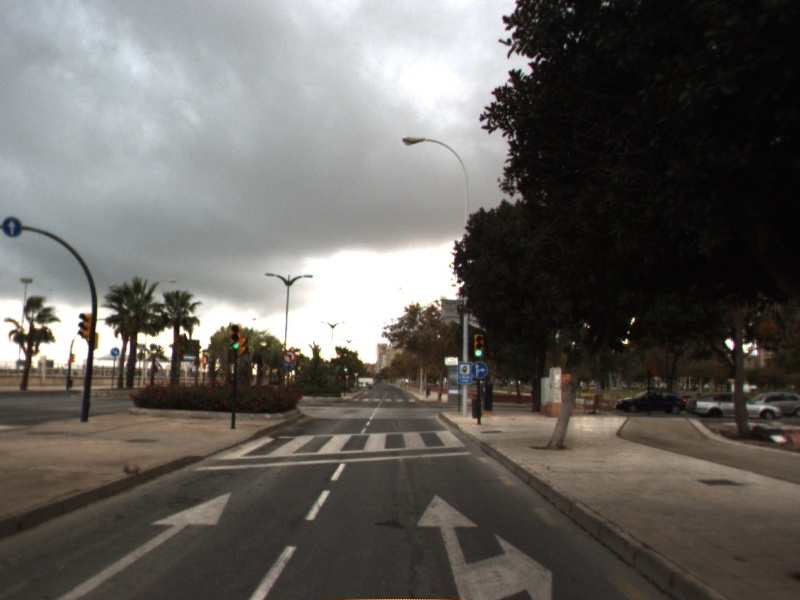STRAIGHT: (57, 488, 234, 600)
STRAIGHT_RIGHT: (414, 492, 555, 600)
